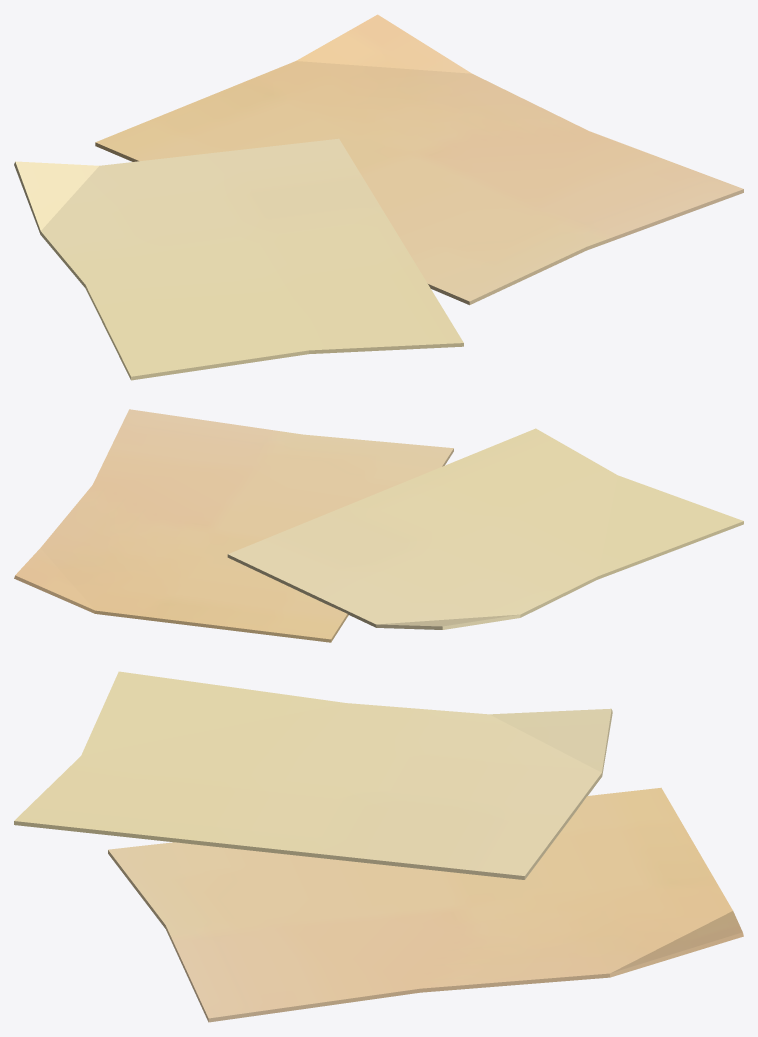
The model's file is Paper_01.glb.
The picture shows the model from 3 angles, top to bottom: view 1: azimuth 30°, elevation 25°; view 2: azimuth 150°, elevation 25°; view 3: azimuth 270°, elevation 25°; orthographic projection. The views are drawn at different scales.
Parts seen in each view (by area): view 1: Paper_01; view 2: Paper_01; view 3: Paper_01.
Part boxes in pixels (bbox=[...]): Paper_01: bbox=[14, 14, 743, 380]; Paper_01: bbox=[14, 409, 743, 642]; Paper_01: bbox=[14, 671, 743, 1022].
Bounding box in the file's own units: 0.3569 × 0.0139 × 0.3197.
1 material, 1 textured.
